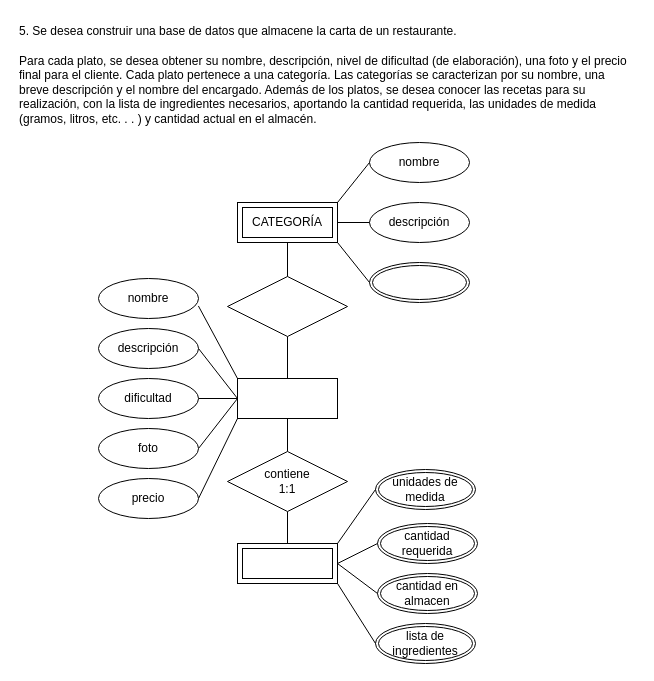
Some shapes in this 654 by 681 pixel diagram are drawn without their labels. Here are the shapes that lost their labels. From the top down, the centre of each, then its label:
the point at 419,282: encargado
the point at 287,306: pertenece a N:1
the point at 287,398: PLATO
the point at 287,563: RECETA
